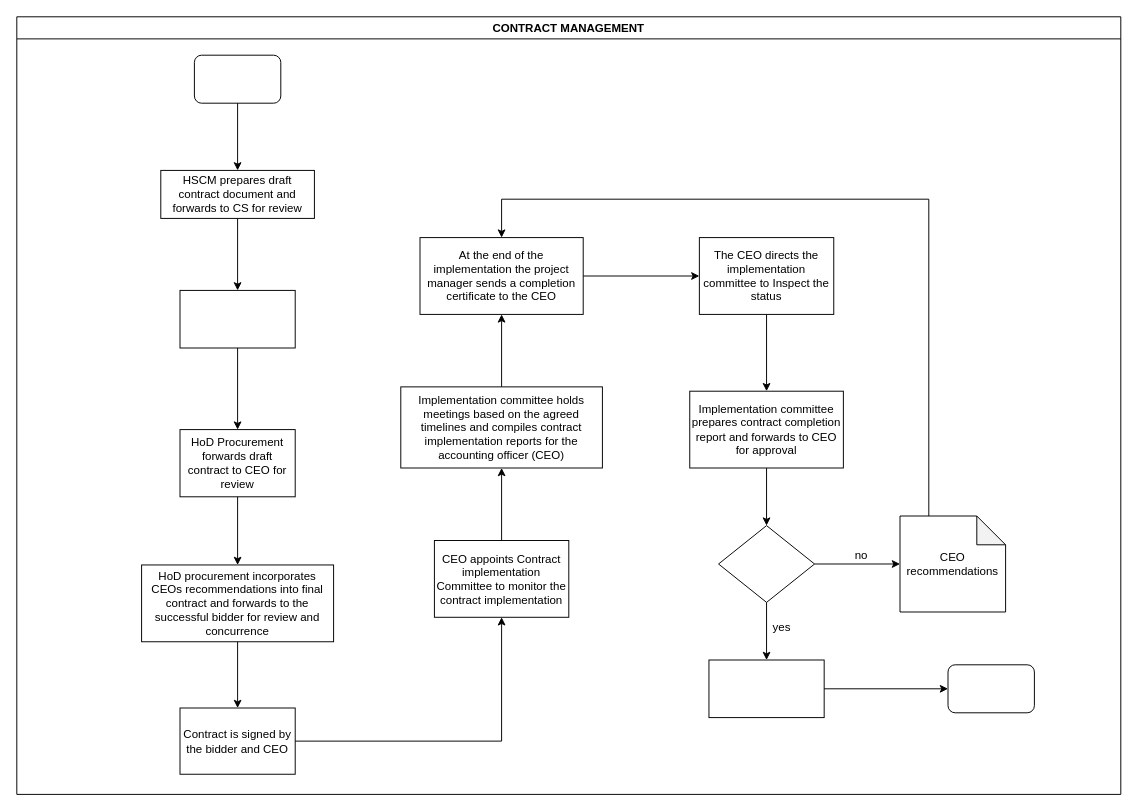
Some shapes in this 1138 by 811 pixel diagram are drawn without their labels. Here are the shapes that lost their labels. From the top down, the box of each, then its label:
(193, 54, 281, 103): Start
(179, 289, 295, 348): CS review the draft contract and returns into the document to HSCM
(718, 525, 815, 602): CEO Approves
(708, 659, 824, 718): CEO forwards to Finance for payment
(947, 664, 1034, 713): End
